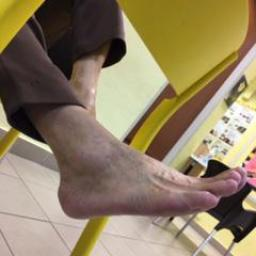Lateral View -Right Foot-: (28, 104, 252, 232)
